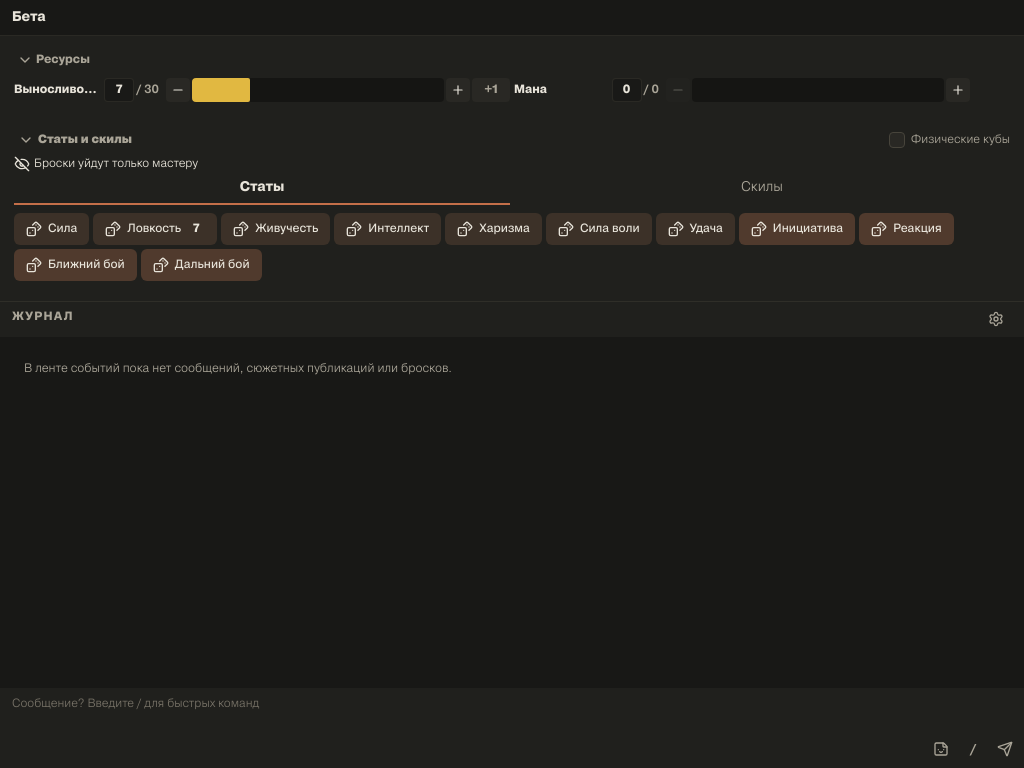
Scenario: ActivityPanel action context (UIX-621) › links only composer validation to its field; quick-roll and resource errors stay at their surfaces
Type "/roll" into the text box named "Сообщение или бросок" at (512, 728), box [12,696,1012,760]
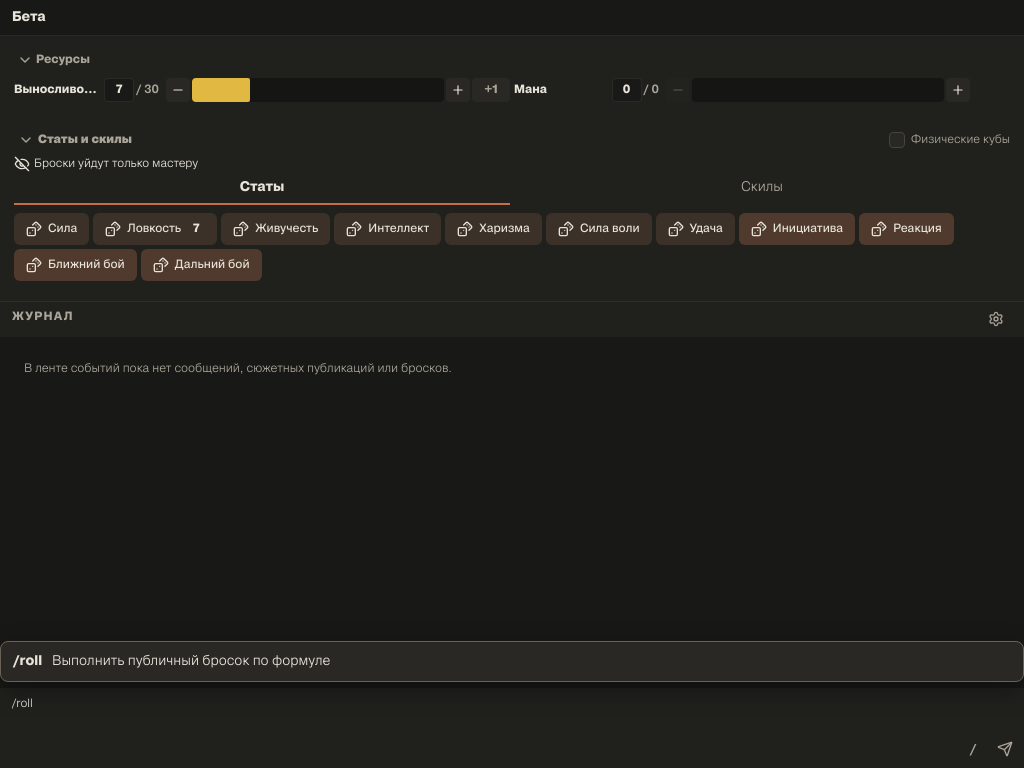
Click the button named "Отправить." at (1005, 749), box [990,734,1020,764]
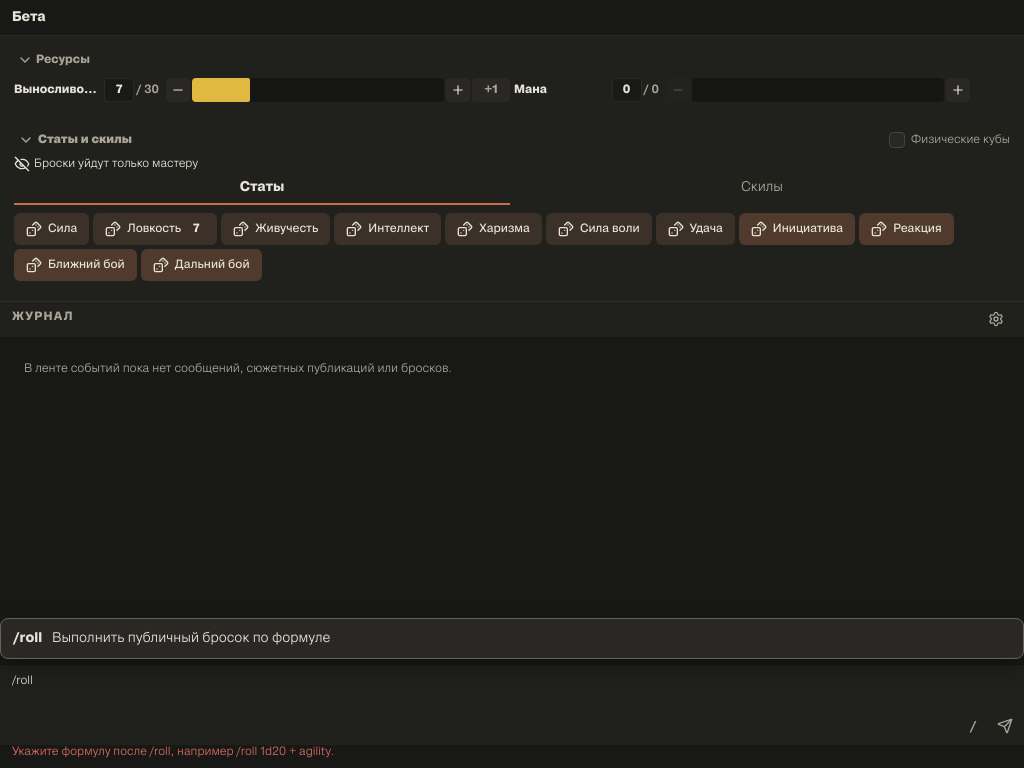
expect the message with id "activity-composer-error" shows "Укажите формулу после /roll": met, box [12,747,334,757]
Click the button "Ловкость 7" at (155, 229), box [93,213,217,245]
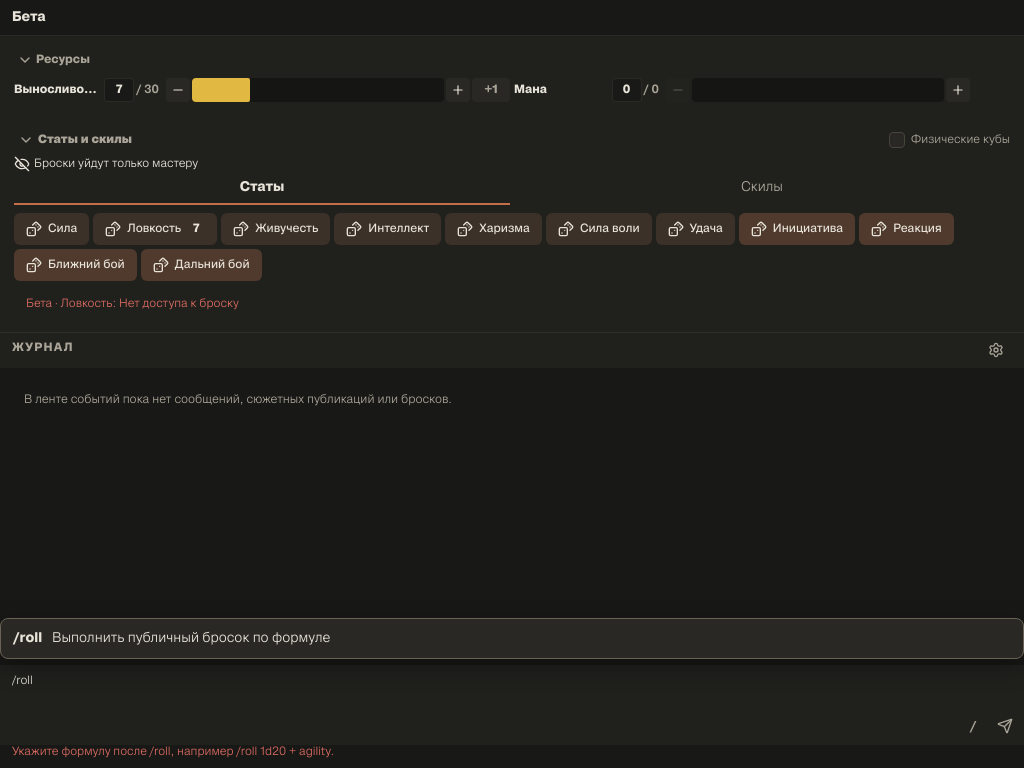
Click the button named "Потратить одно очко: Выносливость" at (178, 90), box [166,78,190,102]
Wait 600 ms
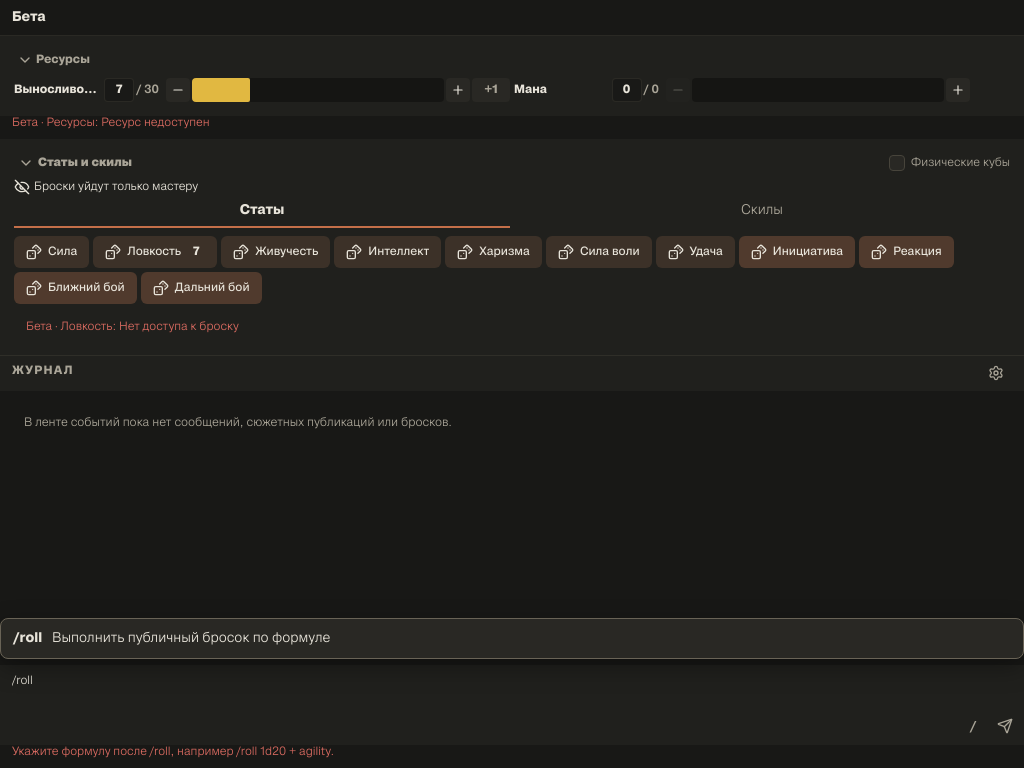
expect the message "Бета · Ловкость: Нет доступа к броску" is shown: met, box [26,322,239,332]
expect the message with id "activity-composer-error" shows "Укажите формулу после /roll": met, box [12,747,334,757]
Replace the text in the text box named "Сообщение или бросок" with "Привет" at (512, 705), box [12,673,1012,737]
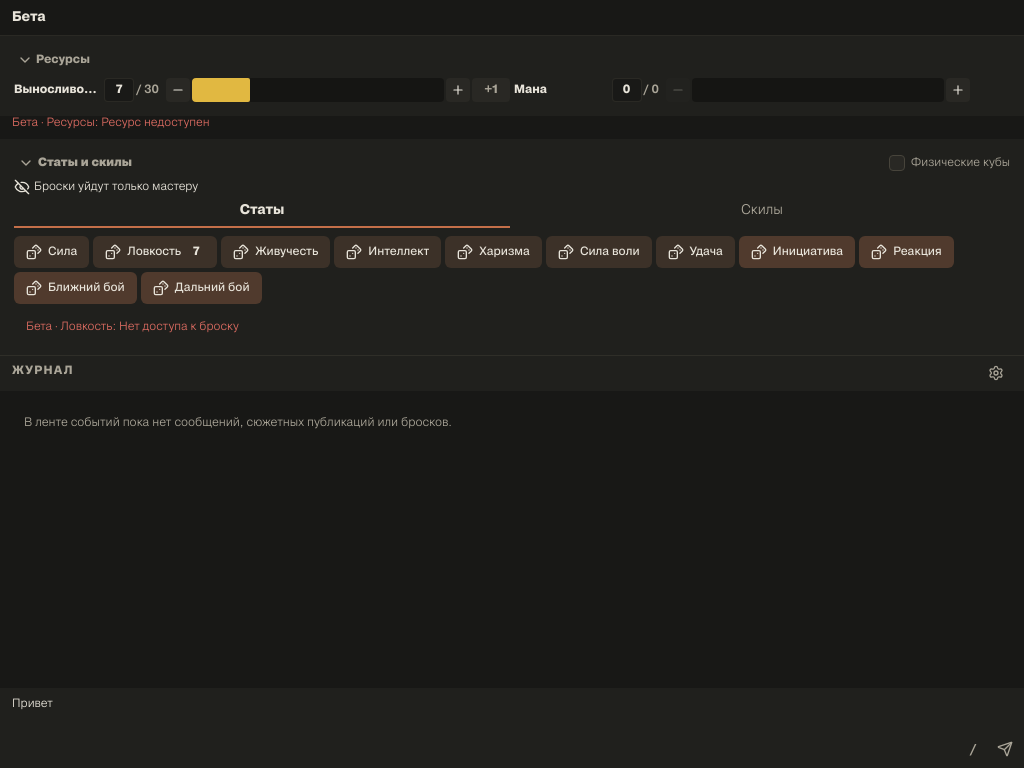
expect the message with id "activity-composer-error" is gone: met
